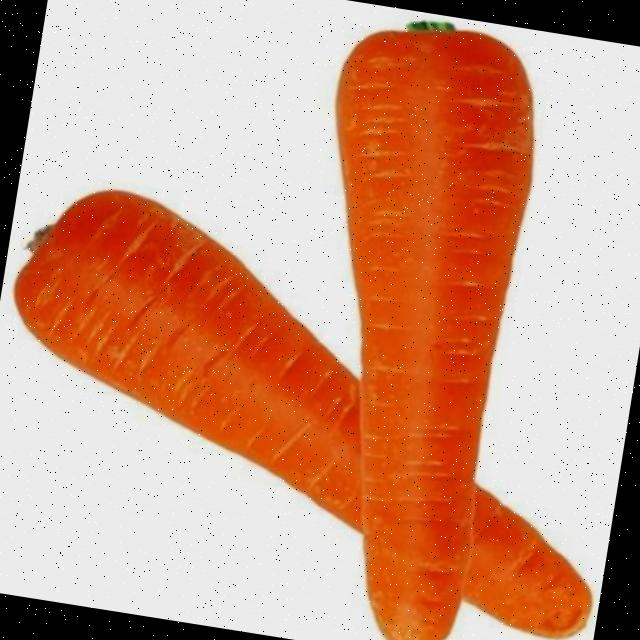carrot: (15, 191, 594, 640), (337, 31, 531, 640)
